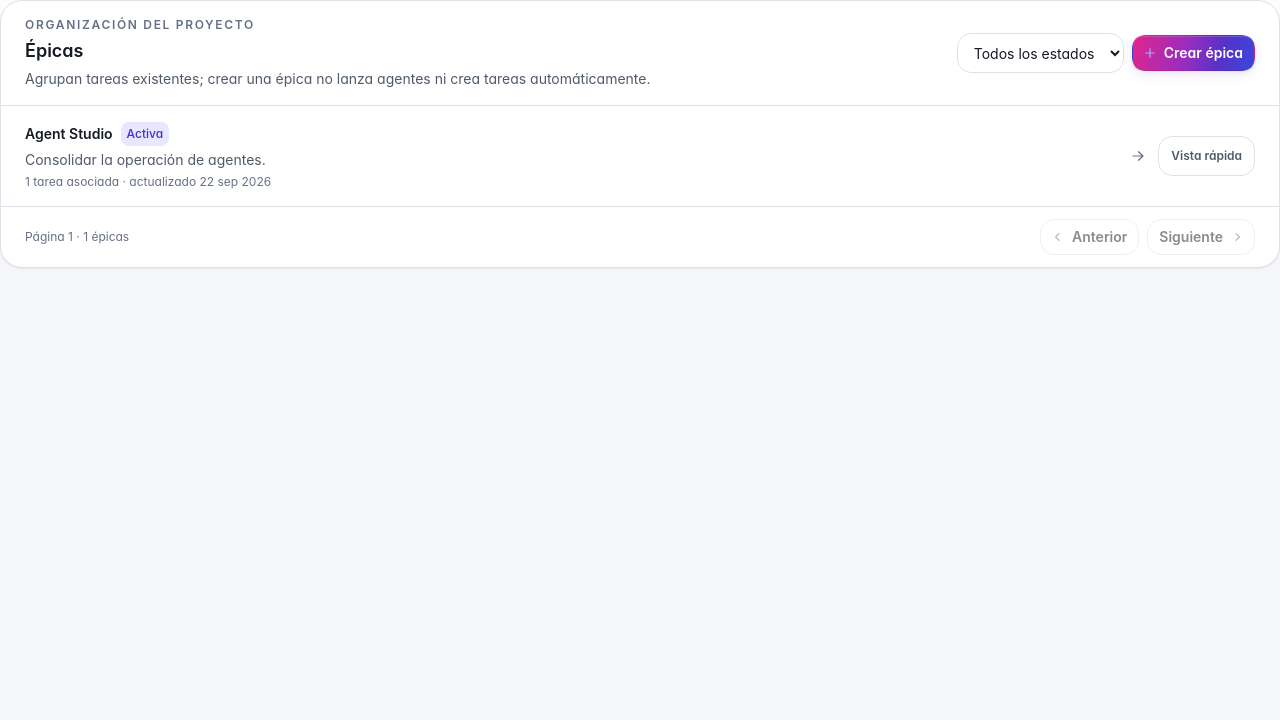
Test: project epics panel › filters quick-view tasks by exact state and keeps pagination scoped to that state
Click the button with aria-label "Abrir vista rápida de épica: Agent Studio".
click(1207, 156)  # box [1158,136,1255,176]
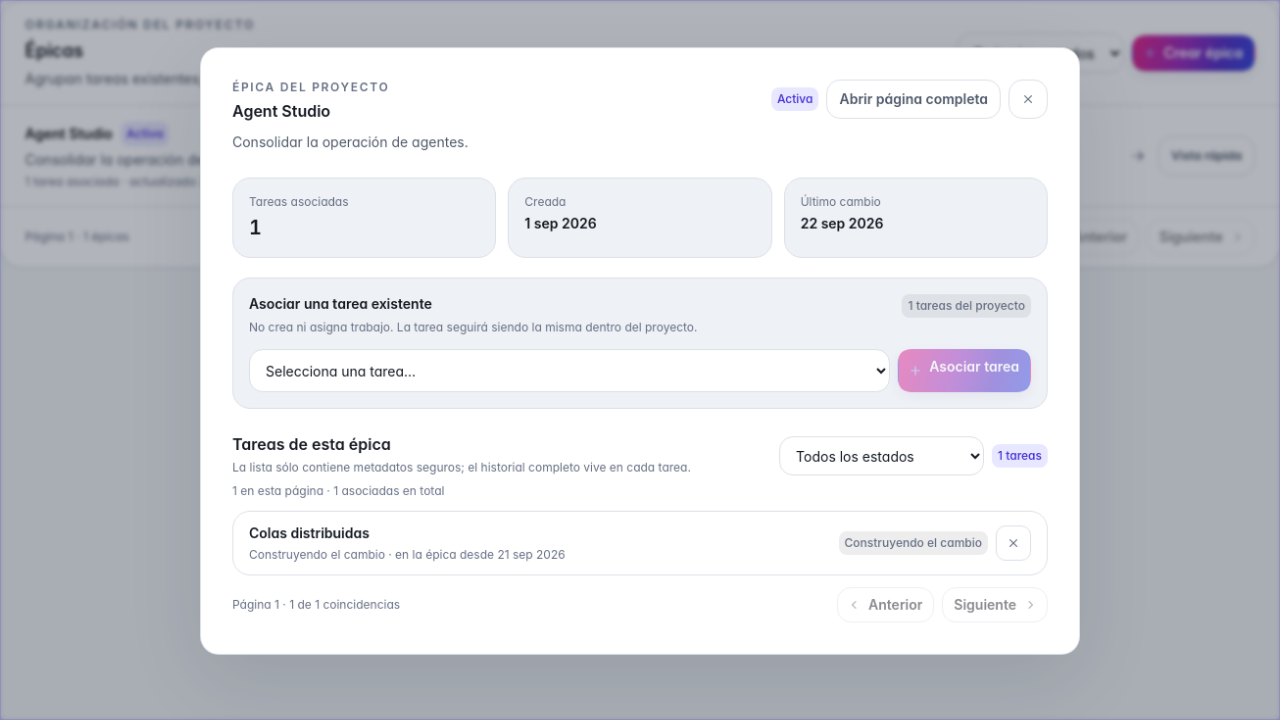
Expected: the link "Colas distribuidas" is shown, [249,524,370,541]
Select "Necesita atención" in the dropdown named "Filtrar tareas de la épica por estado" in the row of "Tareas de esta épica" at [882, 455], box [779,436,984,475]
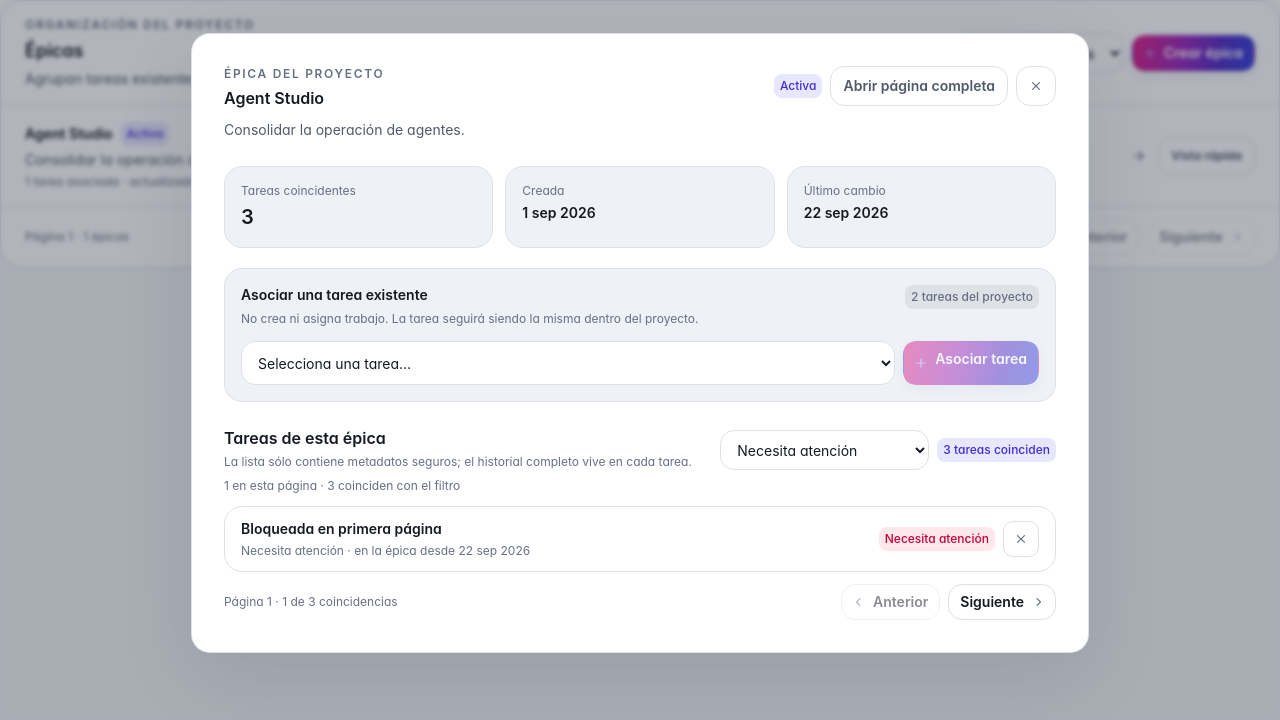
Expected: the dropdown named "Filtrar tareas de la épica por estado" in the row of "Tareas de esta épica" shows "Necesita atención", [720,430,929,470]
Expected: the link "Bloqueada en primera página" is shown, [241,520,442,536]
Expected: the text "1 en esta página · 3 coinciden con el filtro" is shown, [224,478,460,492]
Click the button "Siguiente".
click(1002, 602)  # box [948,584,1056,620]
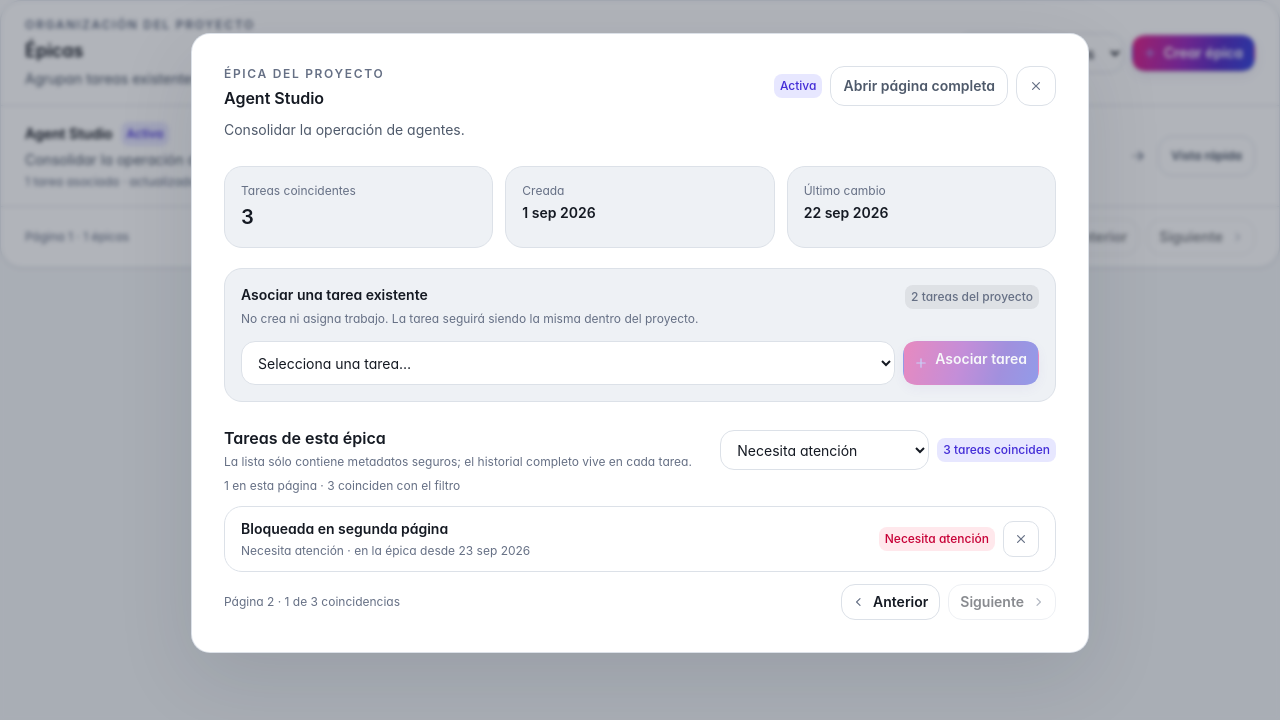
Expected: the link "Bloqueada en segunda página" is shown, [241,520,448,536]
Select "Preparando el plan" in the dropdown named "Filtrar tareas de la épica por estado" in the row of "Tareas de esta épica" at [825, 450], box [720,430,929,470]
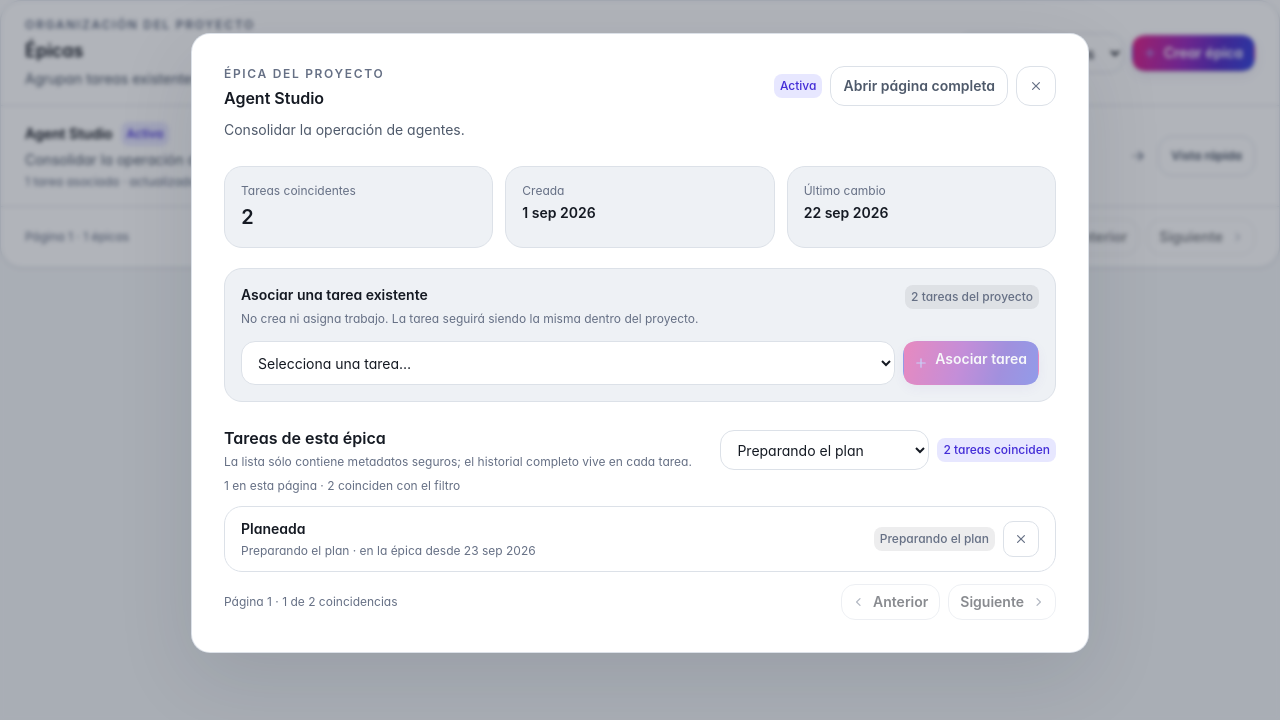
Expected: the link "Planeada" is shown, [241,520,306,536]
Expected: the button "Anterior" is disabled, [841,584,940,620]
